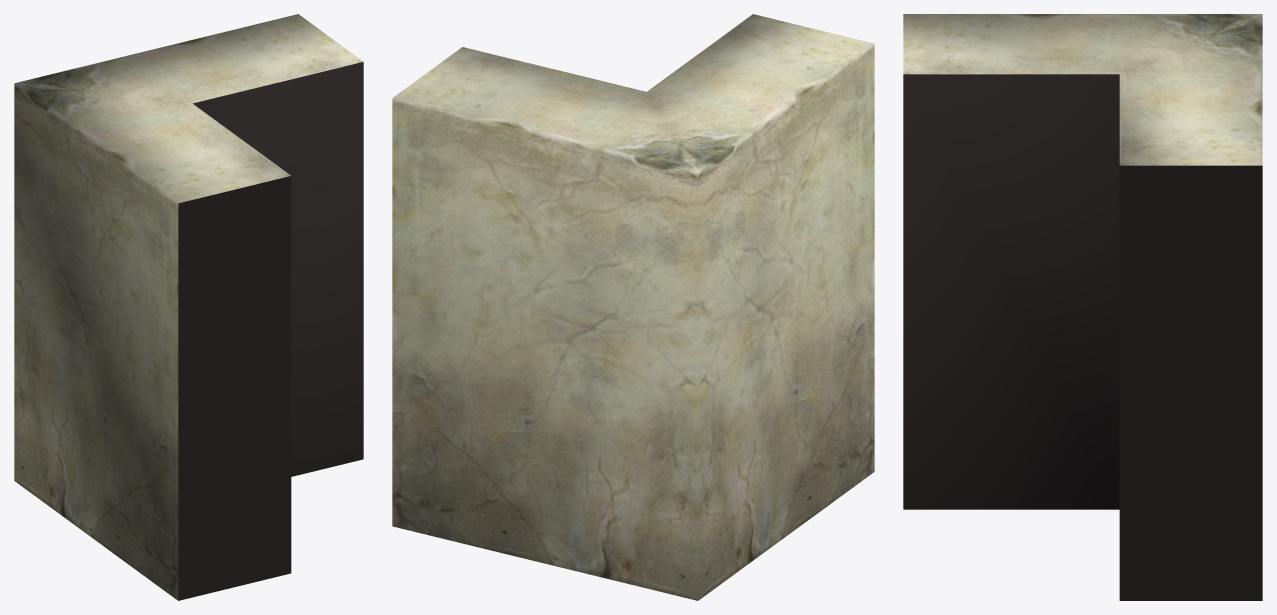
Rendered from a_SWFwall02c.glb.
The picture shows the model from 3 angles, left to right: view 1: azimuth 30°, elevation 25°; view 2: azimuth 150°, elevation 25°; view 3: azimuth 270°, elevation 25°; orthographic projection. The views are drawn at different scales.
Visible parts, largest first — view 1: a_SWFwall02c; view 2: a_SWFwall02c; view 3: a_SWFwall02c.
Part boxes in pixels (left/top/right/bottom): a_SWFwall02c: left=14, top=14, right=363, bottom=600; a_SWFwall02c: left=392, top=14, right=874, bottom=600; a_SWFwall02c: left=903, top=14, right=1262, bottom=600.
Bounding box in the file's own units: 3 × 4.01 × 3.
2 materials, 2 textured.
